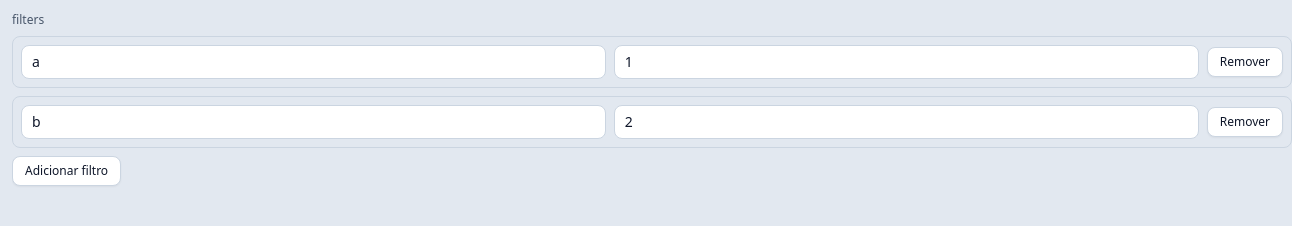
it: FiltersEditor › identificador duplicado mostra aviso e so a primeira vale
The image size is (1292, 226).
Replace the text in the field named "Identificador do filtro 2" with "a": (313,122) [21,105,606,139]
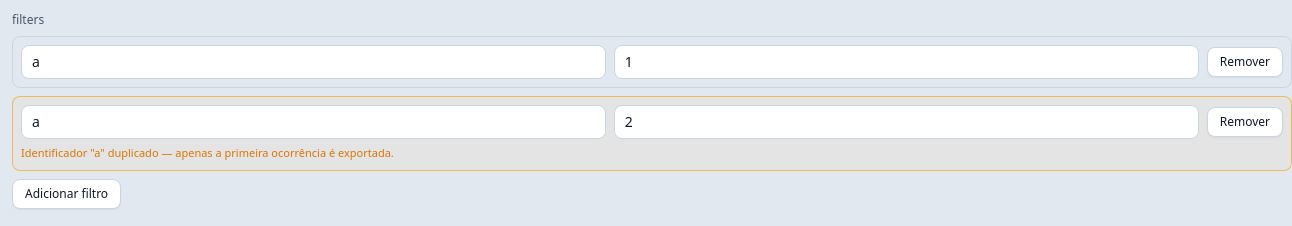
Expected: the message shows "duplicado", [100,145,394,160]
